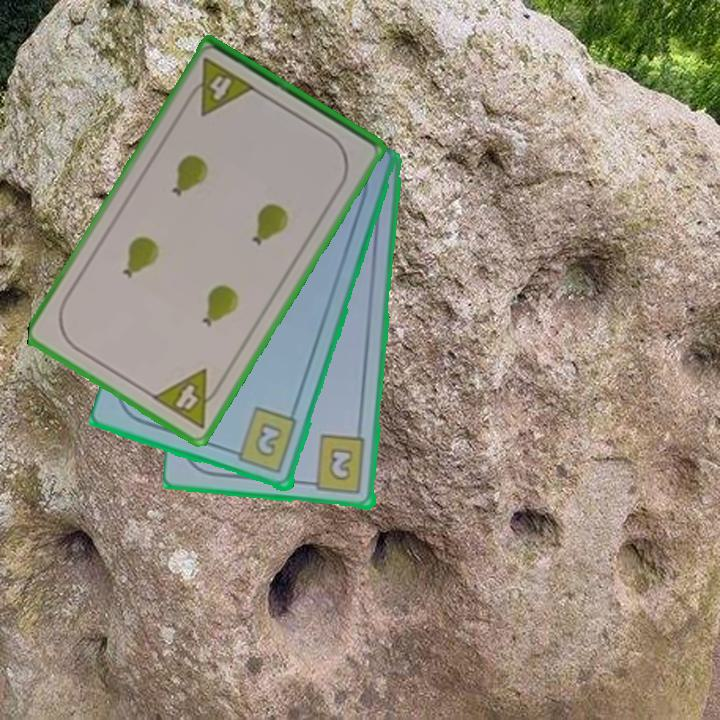2b: (226, 405, 300, 477), (303, 433, 369, 497)
4p: (148, 365, 227, 432), (181, 54, 259, 119)
